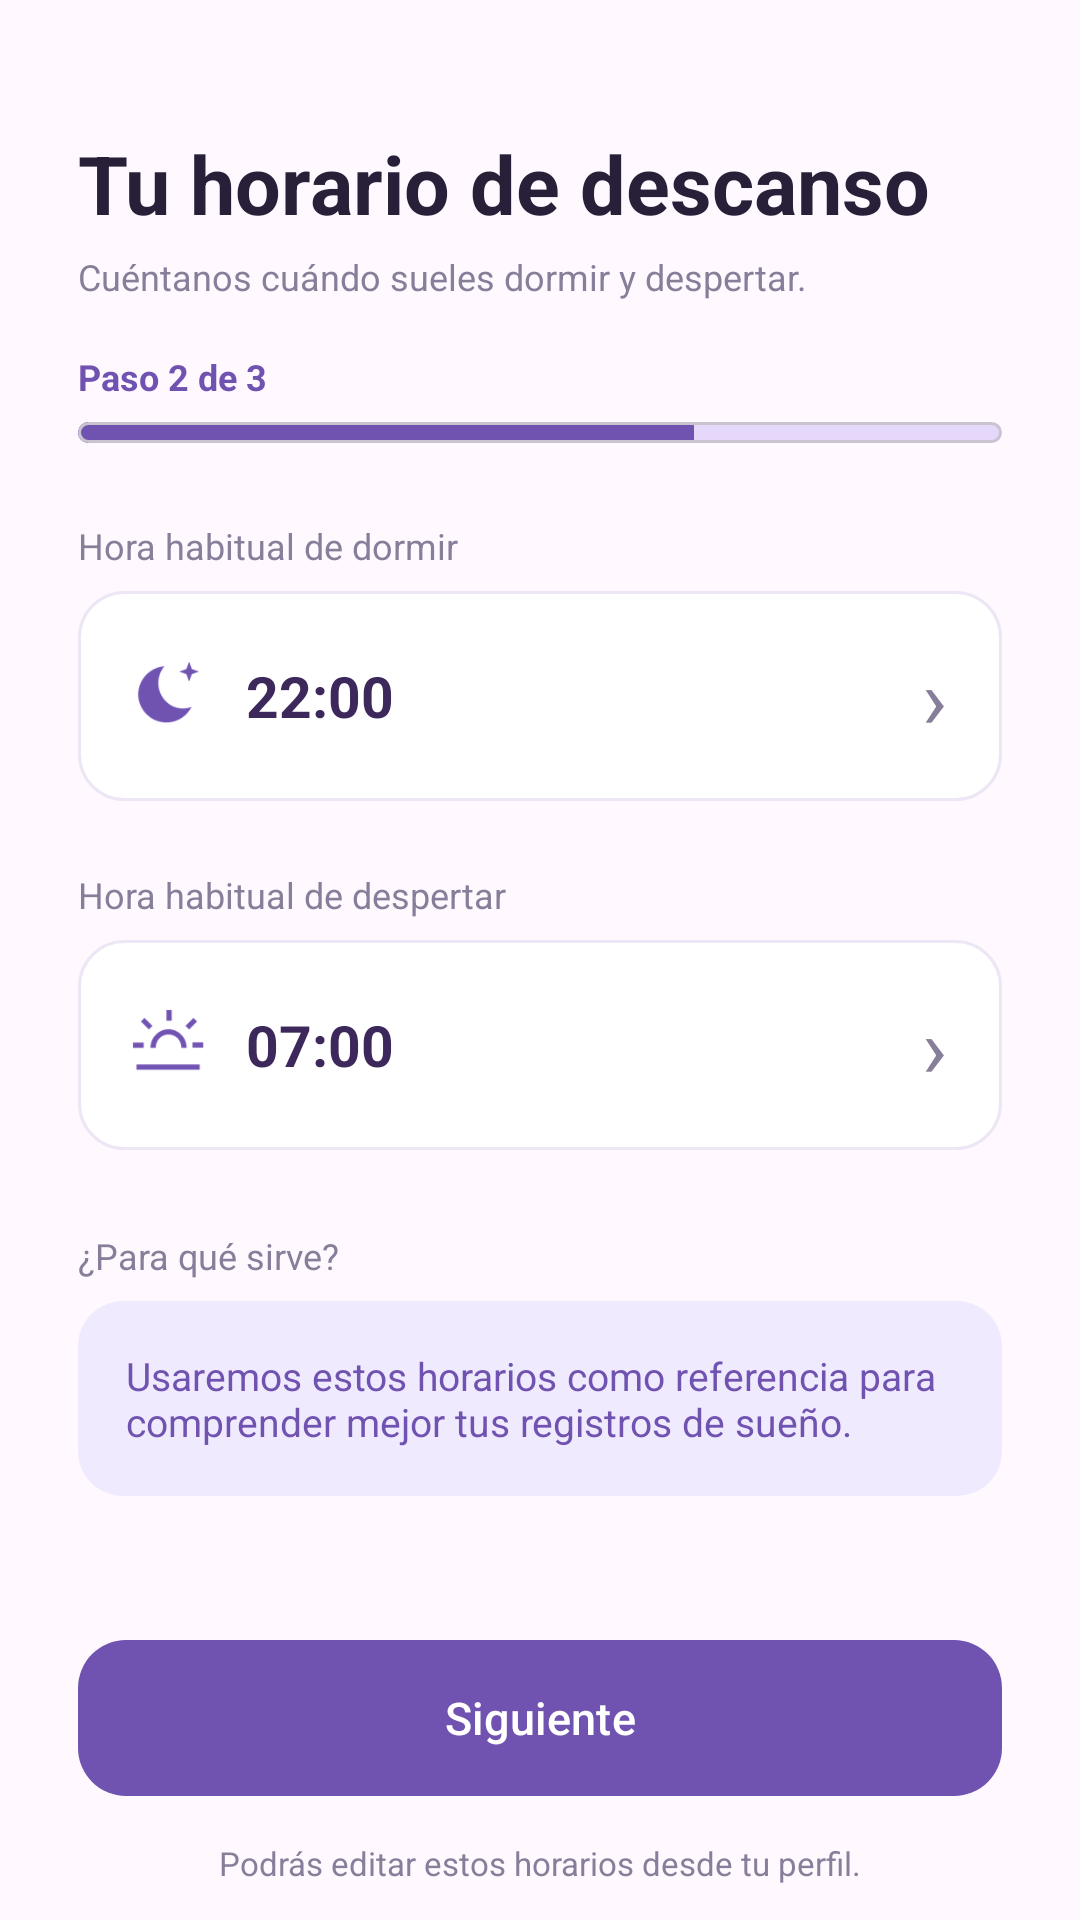

Screen size 1080w x 1920h. Icon name, then its center in pixels as point (x, y):
Icono de descanso: point (168, 692)
Icono de despertar: point (168, 1040)
